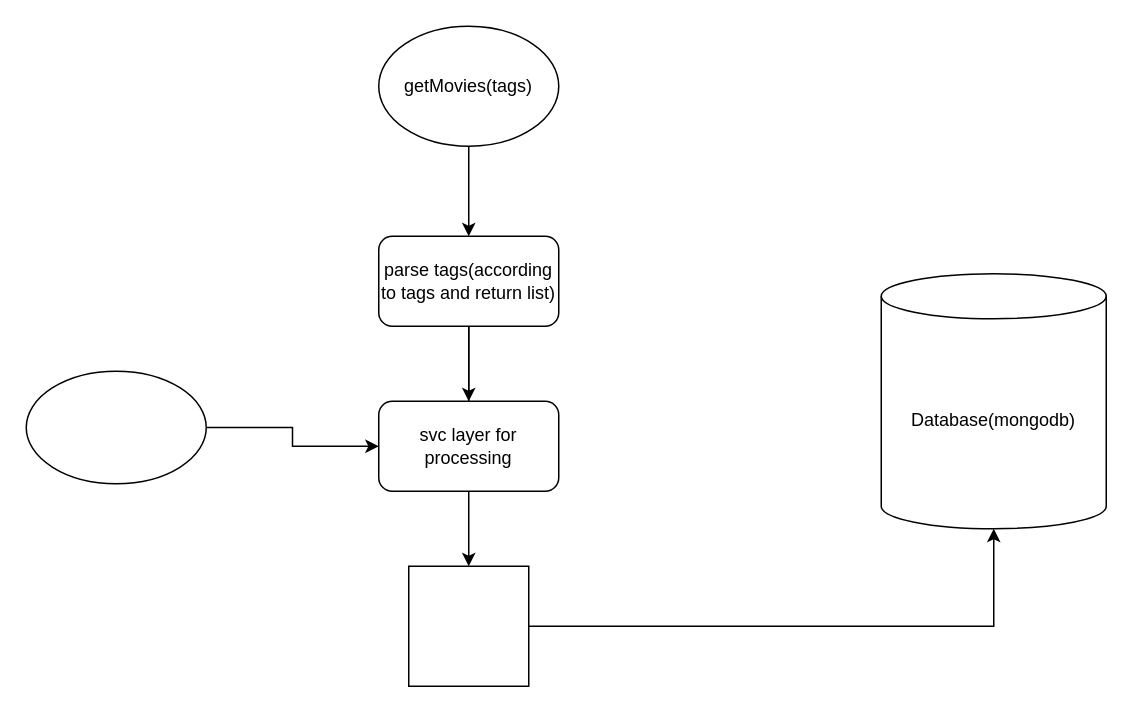
The diagram is 1133 pixels wide and 713 high, and some of its shapes have lost their labels. The centre of each missing label's shape, as x and y in pixels:
"Get all docs accroding to initial tag" belongs at [468,625].
"imbd api" belongs at [115,427].
